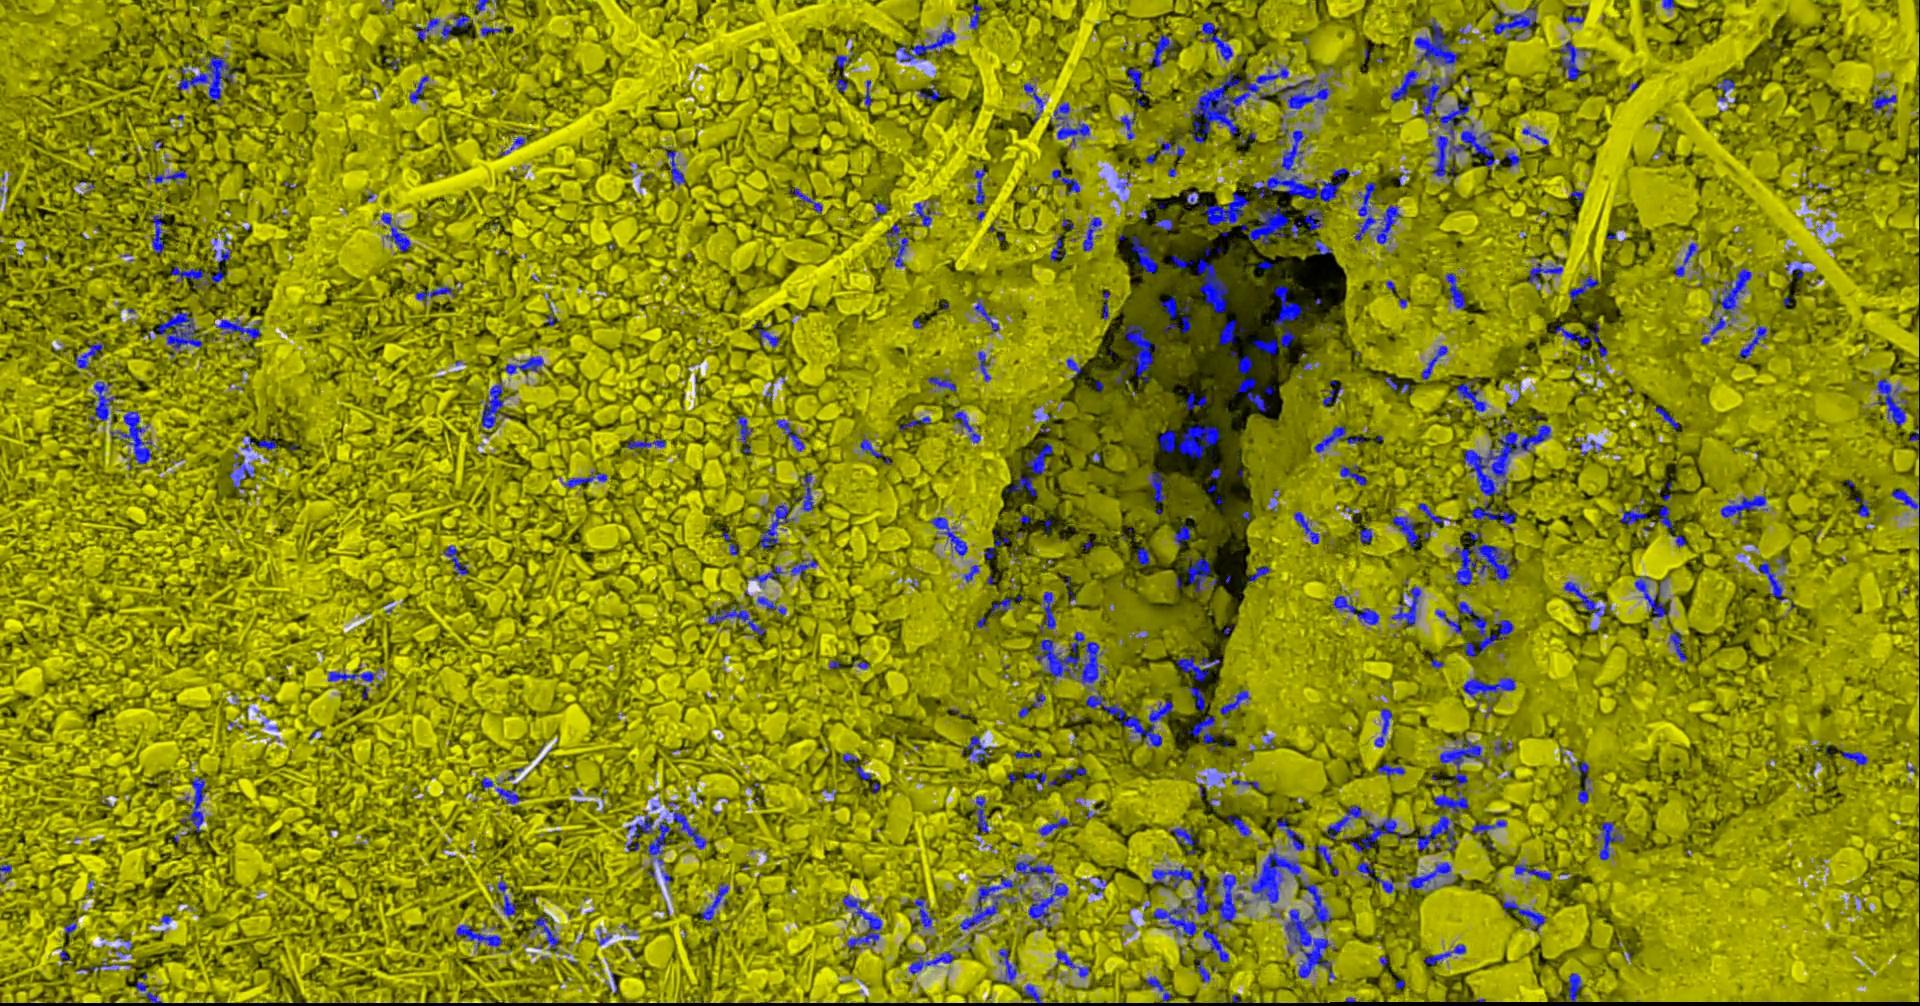ant: (961, 875, 1023, 929), (178, 55, 241, 104), (1459, 601, 1515, 657), (1355, 182, 1403, 243), (1004, 441, 1054, 495), (1415, 17, 1460, 66), (843, 894, 883, 951), (149, 311, 204, 351), (112, 410, 152, 464), (1441, 739, 1488, 785), (1352, 815, 1410, 852), (1197, 246, 1229, 312), (897, 27, 957, 61), (1126, 324, 1159, 381), (1556, 323, 1609, 357), (1716, 268, 1752, 318), (709, 605, 767, 635), (761, 502, 796, 549), (1564, 580, 1611, 616), (182, 776, 211, 832), (1204, 191, 1251, 225), (1055, 102, 1091, 146), (1276, 79, 1330, 108), (1418, 813, 1458, 851), (1876, 379, 1907, 426), (1636, 575, 1671, 617), (670, 810, 709, 848), (932, 516, 969, 555), (1275, 285, 1310, 325), (1467, 500, 1517, 528), (1328, 804, 1368, 840), (1503, 901, 1547, 932), (1335, 594, 1380, 624), (1316, 426, 1365, 452), (171, 265, 229, 288), (1495, 5, 1539, 34), (1236, 377, 1272, 412), (1393, 586, 1422, 627), (1203, 22, 1234, 60), (1759, 560, 1789, 600), (1357, 861, 1397, 892), (649, 818, 674, 865), (1255, 326, 1297, 354), (910, 950, 959, 974), (1464, 677, 1517, 699), (1408, 862, 1451, 889), (382, 212, 411, 251), (533, 911, 561, 951), (1722, 495, 1769, 520), (483, 379, 505, 428), (91, 381, 117, 424), (1178, 655, 1222, 681), (1162, 296, 1192, 332), (1131, 235, 1159, 273), (702, 882, 730, 920), (230, 452, 257, 492), (1457, 377, 1487, 412), (457, 923, 503, 946), (1738, 324, 1768, 359), (1145, 138, 1186, 164), (483, 777, 523, 803), (498, 874, 521, 918), (1392, 69, 1422, 102), (1057, 948, 1091, 977), (629, 815, 657, 851), (1153, 865, 1194, 889), (776, 419, 806, 451), (1277, 815, 1305, 850), (1561, 39, 1585, 79), (218, 318, 262, 339), (861, 434, 893, 464), (1600, 821, 1624, 859), (1190, 715, 1217, 749), (888, 224, 909, 265), (1529, 259, 1564, 285), (1422, 345, 1449, 379), (1426, 944, 1467, 965), (1187, 556, 1211, 592), (843, 752, 872, 781), (1702, 316, 1732, 344), (954, 412, 982, 442), (1025, 83, 1046, 122), (1393, 514, 1420, 546), (136, 973, 163, 1005), (1150, 34, 1176, 67), (790, 187, 823, 212), (1676, 243, 1702, 276), (1435, 790, 1470, 813), (1171, 827, 1201, 854), (1295, 511, 1321, 542), (1573, 761, 1592, 803), (977, 297, 999, 332), (916, 897, 938, 931), (442, 14, 471, 41), (1222, 688, 1251, 715), (1570, 276, 1600, 301), (505, 354, 546, 373), (795, 473, 815, 511), (749, 565, 785, 587), (76, 342, 104, 368), (998, 948, 1018, 983), (1418, 503, 1451, 525), (1893, 488, 1920, 514), (1053, 169, 1081, 194), (444, 545, 469, 574), (667, 150, 687, 184), (563, 471, 608, 486), (1448, 272, 1467, 307), (1377, 708, 1394, 746), (1147, 976, 1172, 1002), (910, 201, 936, 226), (968, 735, 992, 762), (413, 17, 441, 39), (1041, 591, 1057, 633), (1020, 694, 1048, 716), (1084, 217, 1103, 250), (417, 285, 455, 301), (737, 415, 753, 453), (990, 594, 1023, 614), (1437, 608, 1463, 633), (1516, 864, 1553, 880), (1150, 471, 1170, 503), (975, 795, 990, 835), (1669, 631, 1689, 661), (1025, 768, 1058, 786), (152, 215, 168, 253), (1341, 464, 1368, 485), (149, 169, 189, 183), (1040, 817, 1072, 835), (758, 596, 787, 615), (79, 960, 133, 970), (1873, 91, 1898, 113), (1323, 379, 1343, 405), (243, 434, 278, 450), (1473, 819, 1509, 835), (1129, 67, 1148, 95), (411, 75, 430, 103), (1657, 406, 1680, 429), (1220, 318, 1239, 344), (1622, 506, 1648, 525), (792, 558, 819, 577), (1523, 127, 1550, 145), (329, 671, 377, 681), (1385, 376, 1415, 392), (1660, 506, 1676, 535), (1229, 815, 1252, 836), (930, 375, 957, 391), (215, 236, 232, 262), (1189, 686, 1206, 711), (1568, 972, 1583, 1001), (900, 417, 932, 431), (723, 531, 742, 554), (1718, 77, 1736, 102), (975, 168, 987, 205), (759, 326, 780, 347), (971, 3, 985, 30), (1051, 235, 1067, 260), (979, 351, 992, 381), (1175, 525, 1194, 545), (919, 83, 941, 100), (1787, 260, 1810, 277), (1123, 112, 1137, 138), (1843, 749, 1869, 763), (1187, 391, 1208, 409), (1025, 984, 1043, 1005), (1378, 763, 1406, 776), (1197, 956, 1211, 982), (629, 439, 667, 448), (1316, 845, 1333, 864), (1250, 565, 1271, 580), (1060, 767, 1088, 779), (1238, 354, 1255, 373), (1067, 358, 1082, 379), (1172, 254, 1194, 268), (1857, 495, 1870, 517), (1233, 779, 1262, 789), (965, 564, 982, 582), (837, 55, 852, 74), (1911, 419, 1920, 451), (1316, 239, 1333, 254), (830, 77, 850, 91), (875, 201, 889, 218), (1096, 876, 1109, 895), (1506, 151, 1521, 166), (1187, 191, 1203, 206), (547, 305, 559, 325), (1360, 525, 1373, 542), (1138, 547, 1150, 565), (1, 862, 13, 882), (996, 531, 1010, 546), (1157, 218, 1175, 230), (1103, 291, 1111, 318), (1016, 751, 1043, 758), (483, 27, 503, 36), (1567, 14, 1586, 23), (866, 79, 872, 105), (1335, 166, 1351, 177), (477, 0, 490, 11), (1210, 467, 1223, 478), (1663, 0, 1677, 9)
